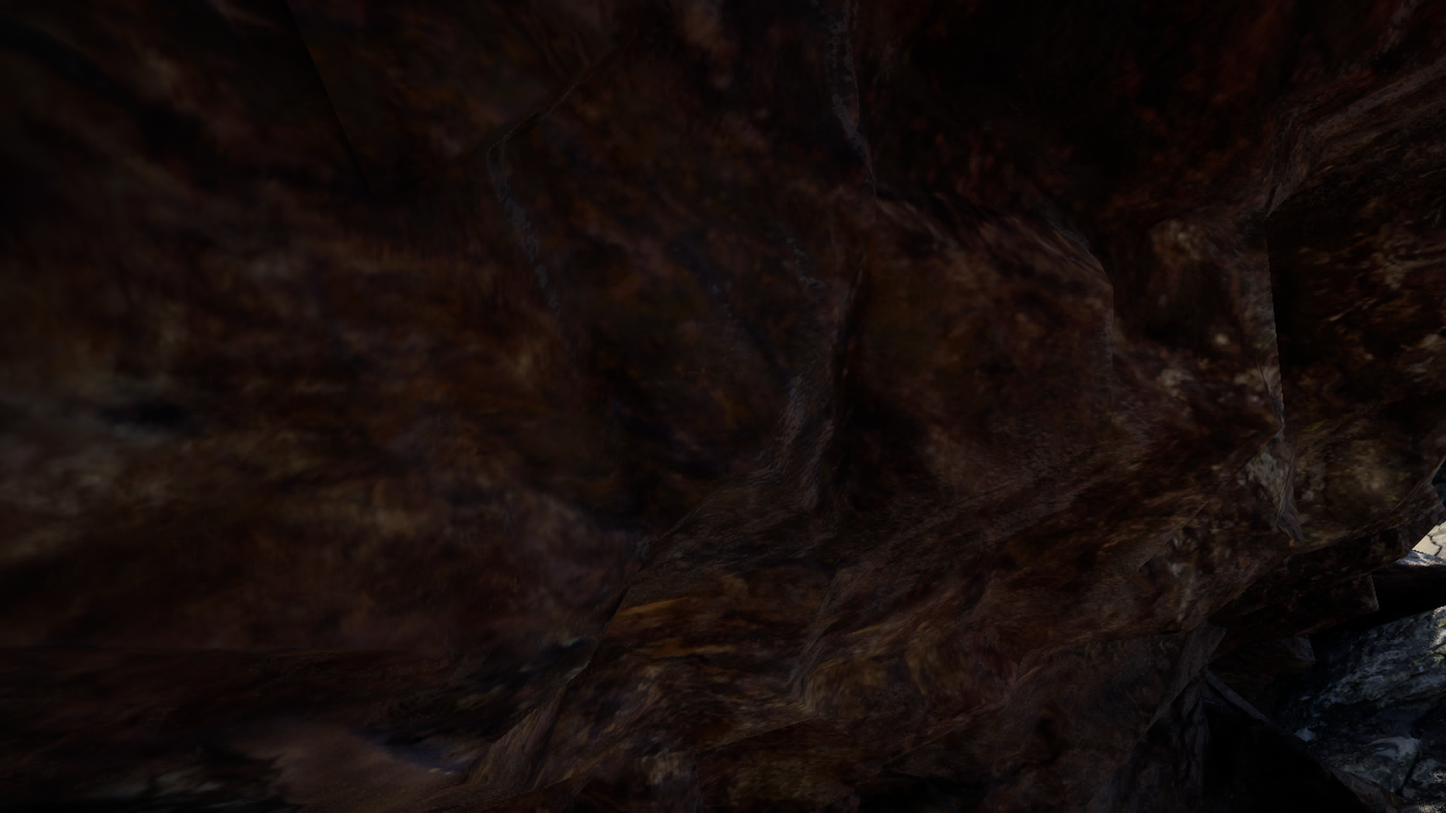Piplup: (272, 11, 1027, 802)
